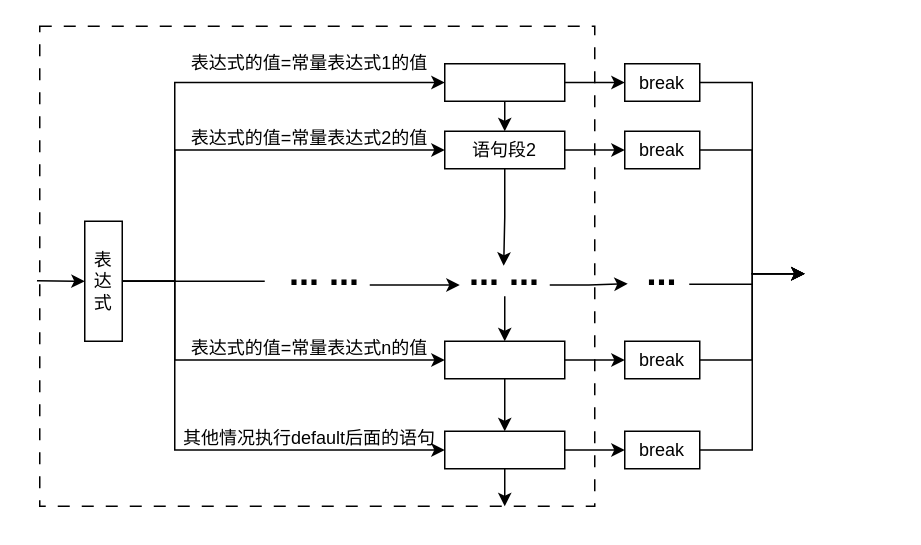
The diagram is 921 pixels wide and 545 high, and some of its shapes have lost their labels. Here are the shapes that lost their labels. From the top down, the centre of each, then its label:
At (x=504, y=81): "语句段1".
At (x=504, y=359): "语句段n".
At (x=504, y=449): "语句段n+1".
